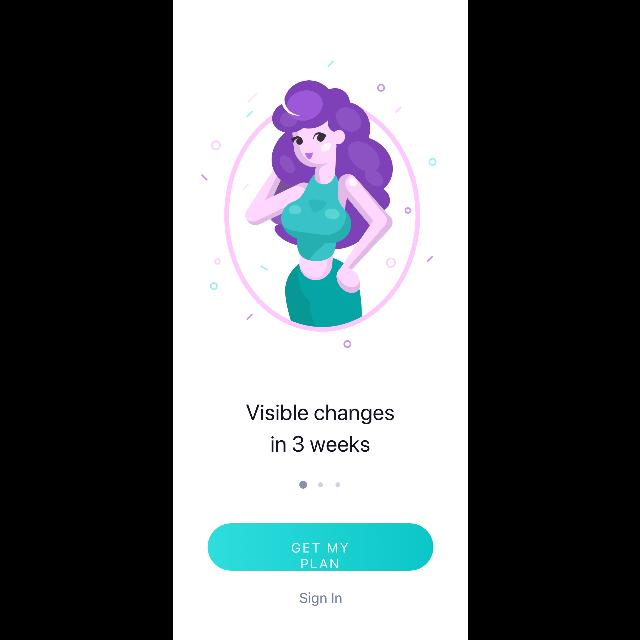image: (200, 60, 436, 348)
pageindicator: (298, 481, 340, 489)
text: (246, 404, 394, 452), (299, 592, 341, 606)
textbutton: (207, 524, 433, 570)
